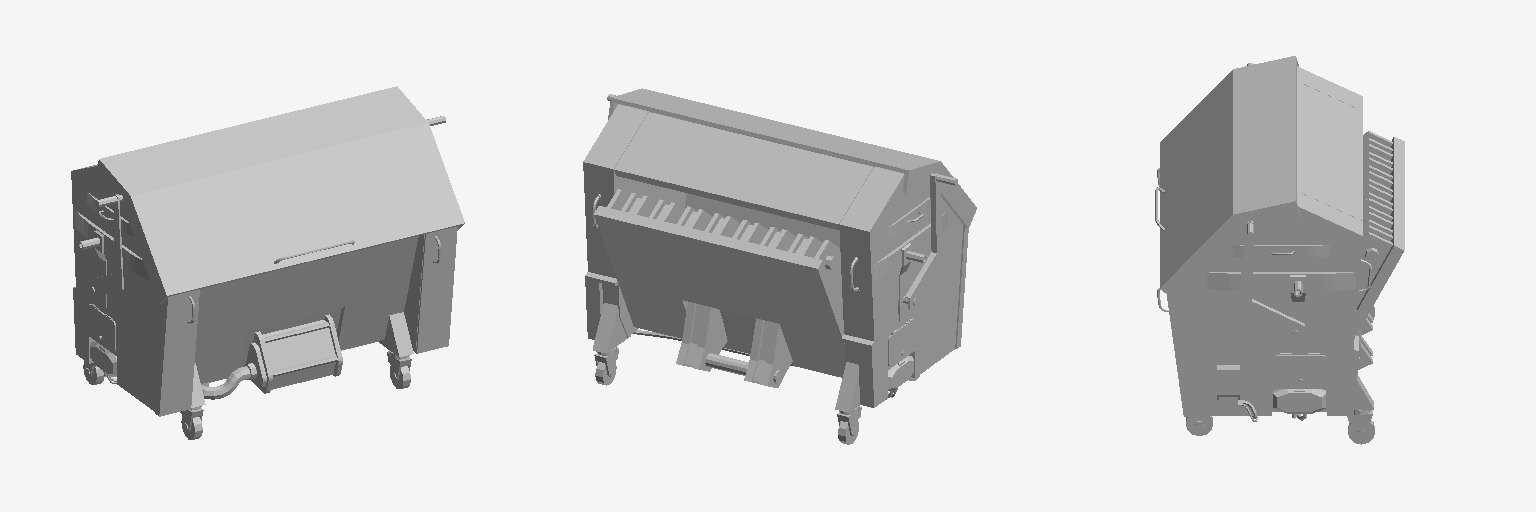
The model's file is american_Trashcan.obj.
3 views of the same model, side by side, from view 1: azimuth 30°, elevation 25°; view 2: azimuth 150°, elevation 25°; view 3: azimuth 270°, elevation 25° (orthographic).
Parts seen in each view (by area): view 1: defaultMaterial.051_defaultMaterial.105, defaultMaterial.049_defaultMaterial.103, defaultMaterial.053_defaultMaterial.107, defaultMaterial.042_defaultMaterial.096, defaultMaterial.013_defaultMaterial.067, defaultMaterial.039_defaultMaterial.093, defaultMaterial.045_defaultMaterial.099, defaultMaterial.040_defaultMaterial.094, defaultMaterial.044_defaultMaterial.098, defaultMaterial.047_defaultMaterial.101, defaultMaterial.037_defaultMaterial.091, defaultMaterial.008_defaultMaterial.062 (+5 smaller); view 2: defaultMaterial.053_defaultMaterial.107, defaultMaterial.050_defaultMaterial.104, defaultMaterial.052_defaultMaterial.106, defaultMaterial.051_defaultMaterial.105, defaultMaterial.012_defaultMaterial.066, defaultMaterial.048_defaultMaterial.102, defaultMaterial.045_defaultMaterial.099, defaultMaterial.040_defaultMaterial.094, defaultMaterial.039_defaultMaterial.093, defaultMaterial.011_defaultMaterial.065, defaultMaterial.037_defaultMaterial.091, defaultMaterial.007_defaultMaterial.061 (+10 smaller); view 3: defaultMaterial.051_defaultMaterial.105, defaultMaterial.053_defaultMaterial.107, defaultMaterial.052_defaultMaterial.106, defaultMaterial.039_defaultMaterial.093, defaultMaterial.050_defaultMaterial.104, defaultMaterial.040_defaultMaterial.094, defaultMaterial.037_defaultMaterial.091, defaultMaterial.038_defaultMaterial.092, defaultMaterial.011_defaultMaterial.065, defaultMaterial.042_defaultMaterial.096, defaultMaterial.041_defaultMaterial.095, defaultMaterial.044_defaultMaterial.098.
Boxes of the visible parts, <box> form: defaultMaterial.051_defaultMaterial.105: <box>96,86,464,303</box>; defaultMaterial.049_defaultMaterial.103: <box>195,236,418,383</box>; defaultMaterial.053_defaultMaterial.107: <box>71,164,424,411</box>; defaultMaterial.042_defaultMaterial.096: <box>155,226,457,416</box>; defaultMaterial.013_defaultMaterial.067: <box>263,320,335,389</box>; defaultMaterial.039_defaultMaterial.093: <box>75,192,148,280</box>; defaultMaterial.045_defaultMaterial.099: <box>191,312,413,407</box>; defaultMaterial.040_defaultMaterial.094: <box>88,194,123,296</box>; defaultMaterial.044_defaultMaterial.098: <box>83,363,410,439</box>; defaultMaterial.047_defaultMaterial.101: <box>241,308,341,366</box>; defaultMaterial.037_defaultMaterial.091: <box>88,304,115,351</box>; defaultMaterial.008_defaultMaterial.062: <box>251,314,342,393</box>; defaultMaterial.053_defaultMaterial.107: <box>583,104,962,407</box>; defaultMaterial.050_defaultMaterial.104: <box>594,206,844,377</box>; defaultMaterial.052_defaultMaterial.106: <box>614,112,873,229</box>; defaultMaterial.051_defaultMaterial.105: <box>608,88,976,227</box>; defaultMaterial.012_defaultMaterial.066: <box>676,302,792,387</box>; defaultMaterial.048_defaultMaterial.102: <box>685,193,839,364</box>; defaultMaterial.045_defaultMaterial.099: <box>593,303,859,412</box>; defaultMaterial.040_defaultMaterial.094: <box>905,173,943,310</box>; defaultMaterial.039_defaultMaterial.093: <box>873,197,947,281</box>; defaultMaterial.011_defaultMaterial.065: <box>607,189,842,314</box>; defaultMaterial.037_defaultMaterial.091: <box>888,319,915,366</box>; defaultMaterial.007_defaultMaterial.061: <box>705,256,836,383</box>; defaultMaterial.051_defaultMaterial.105: <box>1160,56,1301,302</box>; defaultMaterial.053_defaultMaterial.107: <box>1177,66,1362,415</box>; defaultMaterial.052_defaultMaterial.106: <box>1297,81,1362,220</box>; defaultMaterial.039_defaultMaterial.093: <box>1207,245,1355,290</box>; defaultMaterial.050_defaultMaterial.104: <box>1355,137,1404,335</box>; defaultMaterial.040_defaultMaterial.094: <box>1237,221,1305,341</box>; defaultMaterial.037_defaultMaterial.091: <box>1273,355,1326,385</box>; defaultMaterial.038_defaultMaterial.092: <box>1273,389,1325,413</box>; defaultMaterial.011_defaultMaterial.065: <box>1357,131,1392,306</box>; defaultMaterial.042_defaultMaterial.096: <box>1167,295,1191,416</box>; defaultMaterial.041_defaultMaterial.095: <box>1217,365,1239,406</box>; defaultMaterial.044_defaultMaterial.098: <box>1186,306,1374,444</box>.
Bounding box in the file's own units: 2 × 1.41 × 1.24.